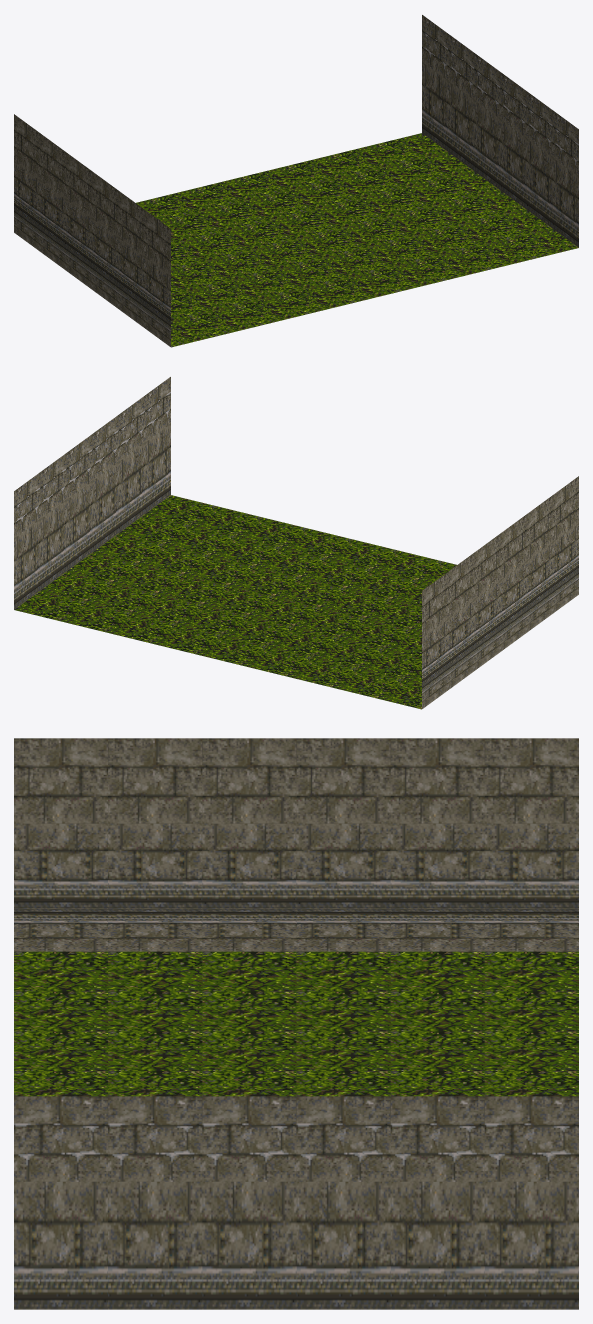
Rendered from room21.obj.
The picture shows the model from 3 angles, top to bottom: view 1: azimuth 30°, elevation 25°; view 2: azimuth 150°, elevation 25°; view 3: azimuth 270°, elevation 25°; orthographic projection. The views are drawn at different scales.
Parts seen in each view (by area): view 1: 01-Caves.021; view 2: 01-Caves.021; view 3: 01-Caves.021.
Part boxes in pixels (box(x1,y1,x2,y2)): 01-Caves.021: box(14, 15, 578, 347); 01-Caves.021: box(14, 377, 578, 709); 01-Caves.021: box(14, 738, 578, 1309).
Size of the model in its own units: 90 by 25 by 60.
Materials: 1 (1 with a texture image).
